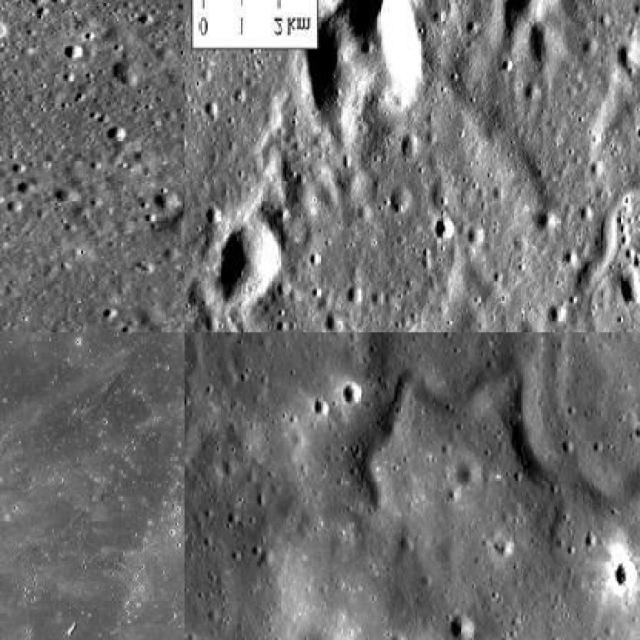rille: (328, 2, 638, 330), (342, 352, 638, 523), (0, 332, 183, 530)
